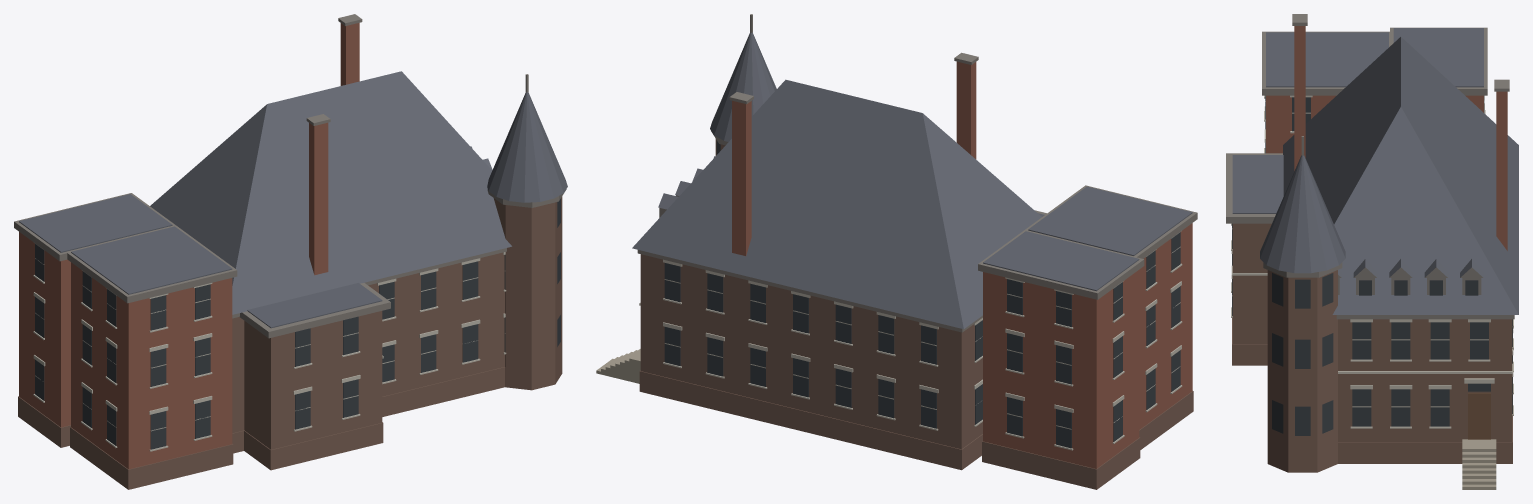
Rendered from moulton_lowden_house_1912_prairie__draft_1904.glb.
The picture shows the model from 3 angles, left to right: view 1: azimuth 30°, elevation 25°; view 2: azimuth 150°, elevation 25°; view 3: azimuth 270°, elevation 25°; orthographic projection. The views are drawn at different scales.
Parts seen in each view (by area): view 1: moulton_lowden_house_1912_prairie__draft_1904; view 2: moulton_lowden_house_1912_prairie__draft_1904; view 3: moulton_lowden_house_1912_prairie__draft_1904.
Boxes of the visible parts, x1=… form: moulton_lowden_house_1912_prairie__draft_1904: x1=14, y1=14, x2=567, y2=489; moulton_lowden_house_1912_prairie__draft_1904: x1=596, y1=14, x2=1197, y2=489; moulton_lowden_house_1912_prairie__draft_1904: x1=1226, y1=14, x2=1518, y2=489.
Size of the model in its own units: 31.75 by 19.21 by 15.45.
